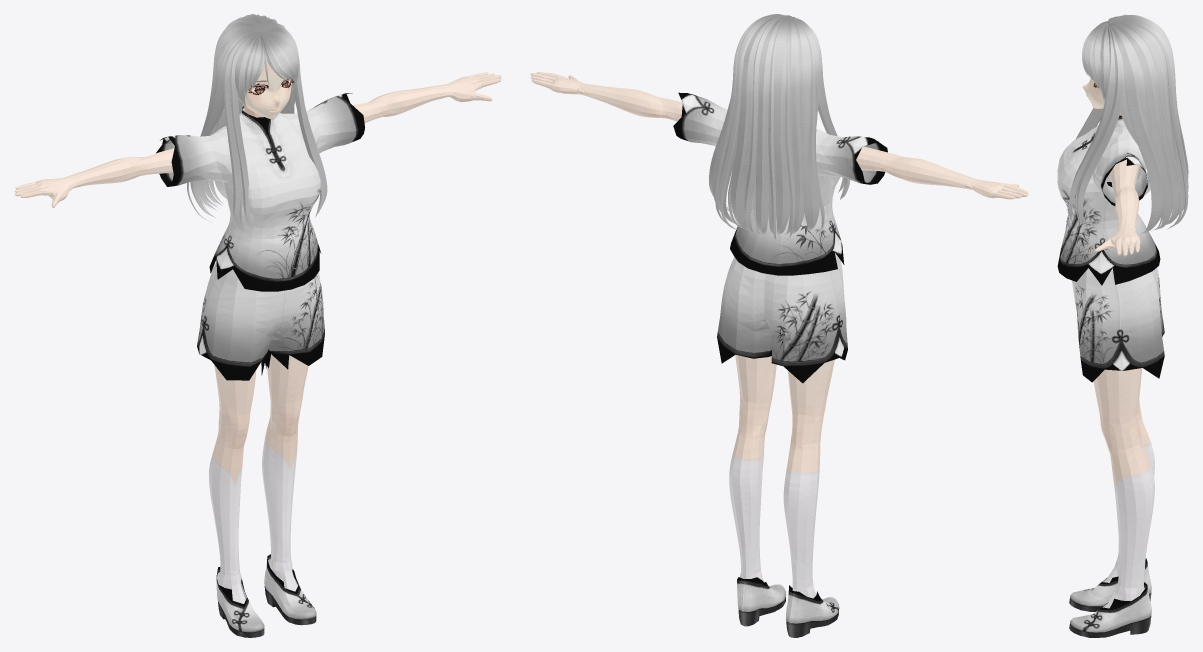
The model's file is emiko.glb.
The picture shows the model from 3 angles, left to right: view 1: azimuth 30°, elevation 25°; view 2: azimuth 150°, elevation 25°; view 3: azimuth 270°, elevation 25°; orthographic projection. The views are drawn at different scales.
Visible parts, largest first — view 1: Body.002_N00_002_02_Tops_01_CLOTH (Instance)_0, Body.002_N00_000_00_Body_00_SKIN (Instance).002_0, Hair_N00_000_Hair_00_HAIR (Instance).002_0, Body.002_N00_001_01_Bottoms_01_CLOTH (Instance)_0, Body.002_N00_008_01_Shoes_01_CLOTH (Instance)_0, Face.002_N00_000_00_Face_00_SKIN (Instance).002_0; view 2: Hair_N00_000_Hair_00_HAIR (Instance).002_0, Body.002_N00_000_00_Body_00_SKIN (Instance).002_0, Body.002_N00_001_01_Bottoms_01_CLOTH (Instance)_0, Body.002_N00_002_02_Tops_01_CLOTH (Instance)_0, Body.002_N00_008_01_Shoes_01_CLOTH (Instance)_0; view 3: Hair_N00_000_Hair_00_HAIR (Instance).002_0, Body.002_N00_000_00_Body_00_SKIN (Instance).002_0, Body.002_N00_002_02_Tops_01_CLOTH (Instance)_0, Body.002_N00_001_01_Bottoms_01_CLOTH (Instance)_0, Body.002_N00_008_01_Shoes_01_CLOTH (Instance)_0, Face.002_N00_000_00_Face_00_SKIN (Instance).002_0.
Boxes of the visible parts, x1,y1,x2,y2 form: Body.002_N00_002_02_Tops_01_CLOTH (Instance)_0: (156,93,364,291); Body.002_N00_000_00_Body_00_SKIN (Instance).002_0: (14,72,501,603); Hair_N00_000_Hair_00_HAIR (Instance).002_0: (187,14,327,231); Body.002_N00_001_01_Bottoms_01_CLOTH (Instance)_0: (197,262,324,380); Body.002_N00_008_01_Shoes_01_CLOTH (Instance)_0: (216,554,316,637); Face.002_N00_000_00_Face_00_SKIN (Instance).002_0: (238,62,291,119); Hair_N00_000_Hair_00_HAIR (Instance).002_0: (709,14,850,239); Body.002_N00_000_00_Body_00_SKIN (Instance).002_0: (530,72,1028,598); Body.002_N00_001_01_Bottoms_01_CLOTH (Instance)_0: (717,253,847,383); Body.002_N00_002_02_Tops_01_CLOTH (Instance)_0: (673,92,887,275); Body.002_N00_008_01_Shoes_01_CLOTH (Instance)_0: (737,577,839,637); Hair_N00_000_Hair_00_HAIR (Instance).002_0: (1069,15,1188,233); Body.002_N00_000_00_Body_00_SKIN (Instance).002_0: (1093,14,1154,608); Body.002_N00_002_02_Tops_01_CLOTH (Instance)_0: (1057,115,1160,285); Body.002_N00_001_01_Bottoms_01_CLOTH (Instance)_0: (1072,268,1164,382); Body.002_N00_008_01_Shoes_01_CLOTH (Instance)_0: (1069,558,1151,637); Face.002_N00_000_00_Face_00_SKIN (Instance).002_0: (1082,77,1105,108).
Size of the model in its own units: 1.42 by 1.65 by 0.3269.
Materials: 14 (14 with a texture image).
